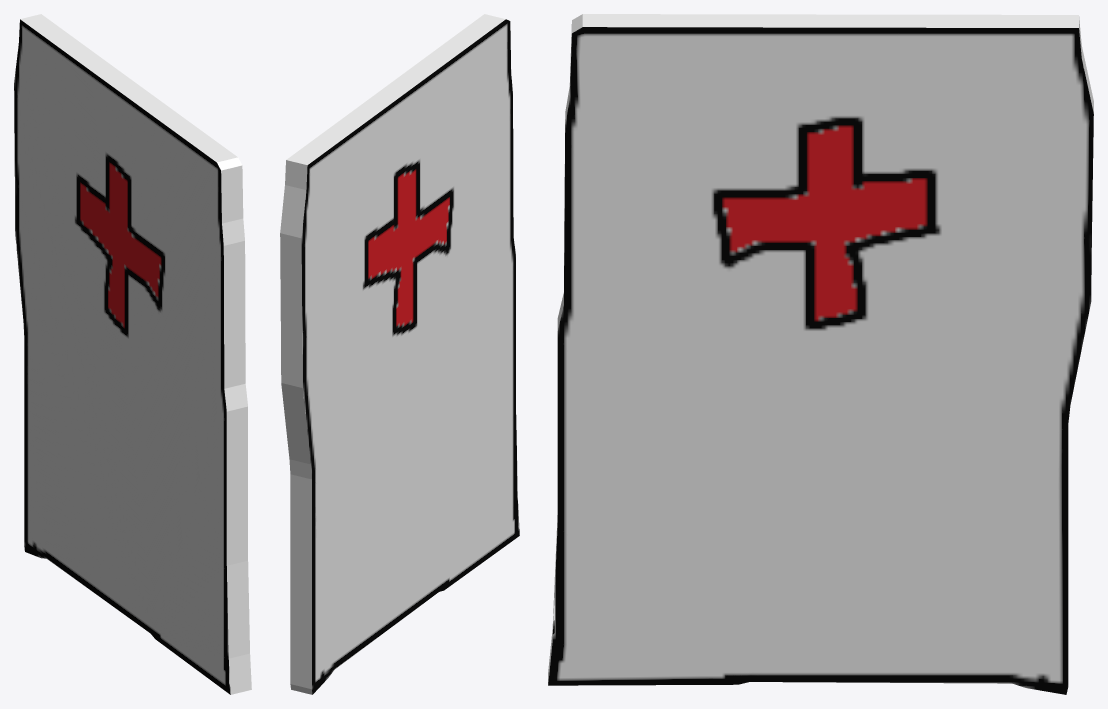
The model's file is healthpack.fbx.
3 renders of one model, left to right at view 1: azimuth 30°, elevation 25°; view 2: azimuth 150°, elevation 25°; view 3: azimuth 270°, elevation 25°, orthographic. The views are drawn at different scales.
Visible parts, largest first — view 1: Cube; view 2: Cube; view 3: Cube.
Boxes of the visible parts, x1,y1,x2,y2 form: Cube: (14, 14, 251, 694); Cube: (280, 14, 519, 694); Cube: (548, 14, 1093, 694).
Bounding box in the file's own units: 10.34 × 246 × 182.
